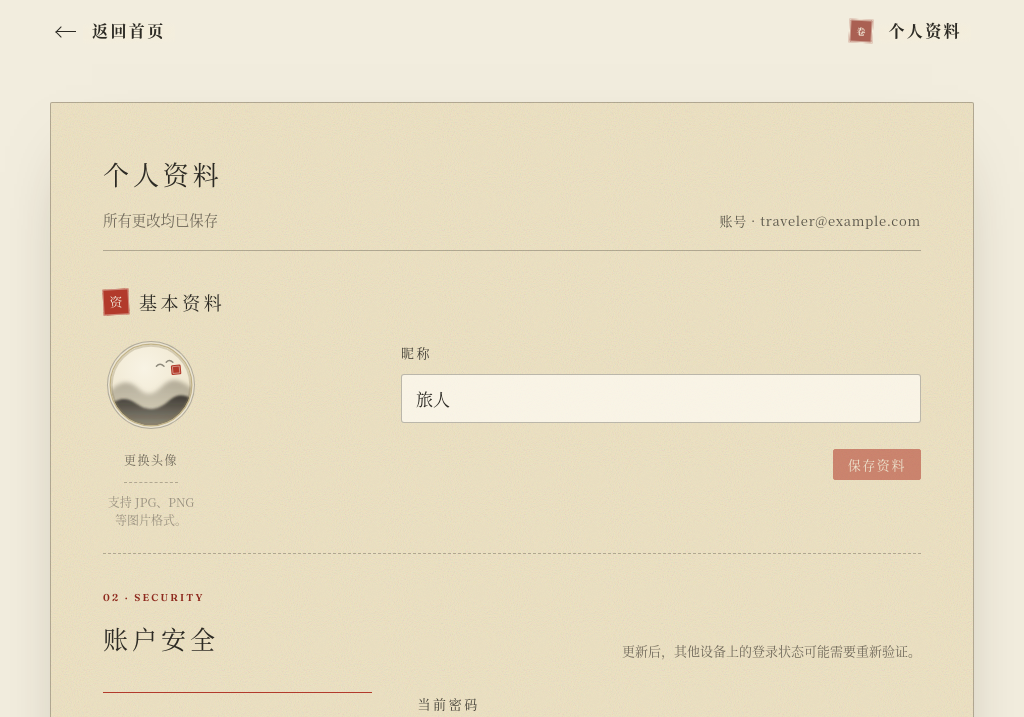
Scenario: public form feedback › keeps the profile form ready for an explicit retry after a save failure
Step 1. Replace the text in the field labelled "昵称" with "新的旅人" → (661, 398), box x1=401 y1=374 x2=921 y2=423
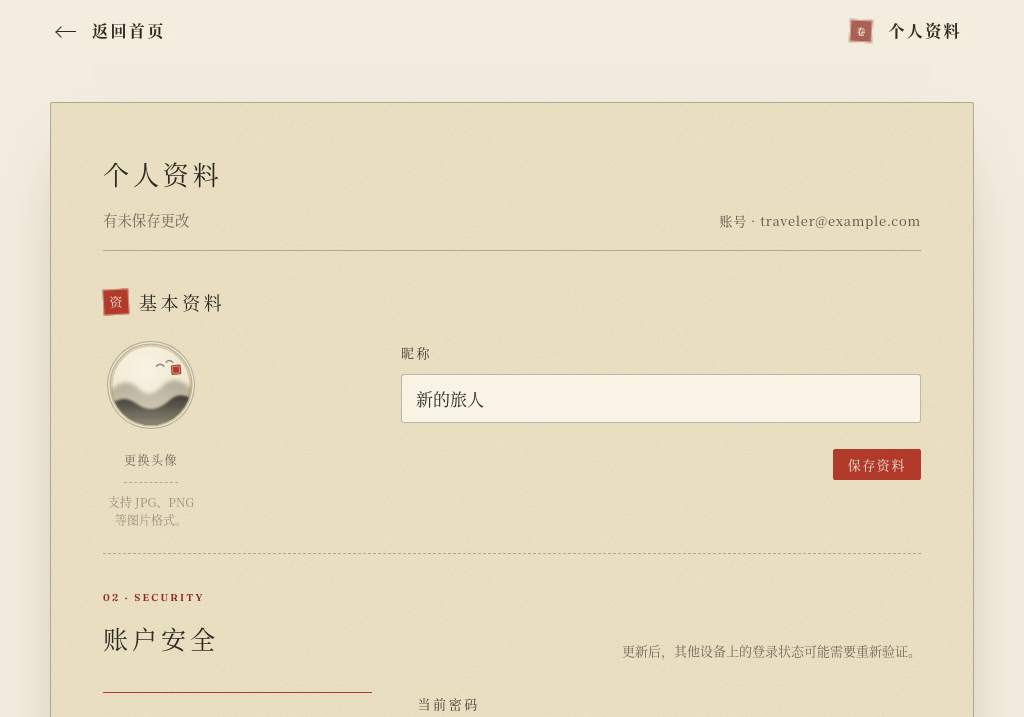
Step 2. Click the button "保存资料" → (877, 464), box x1=833 y1=449 x2=921 y2=480
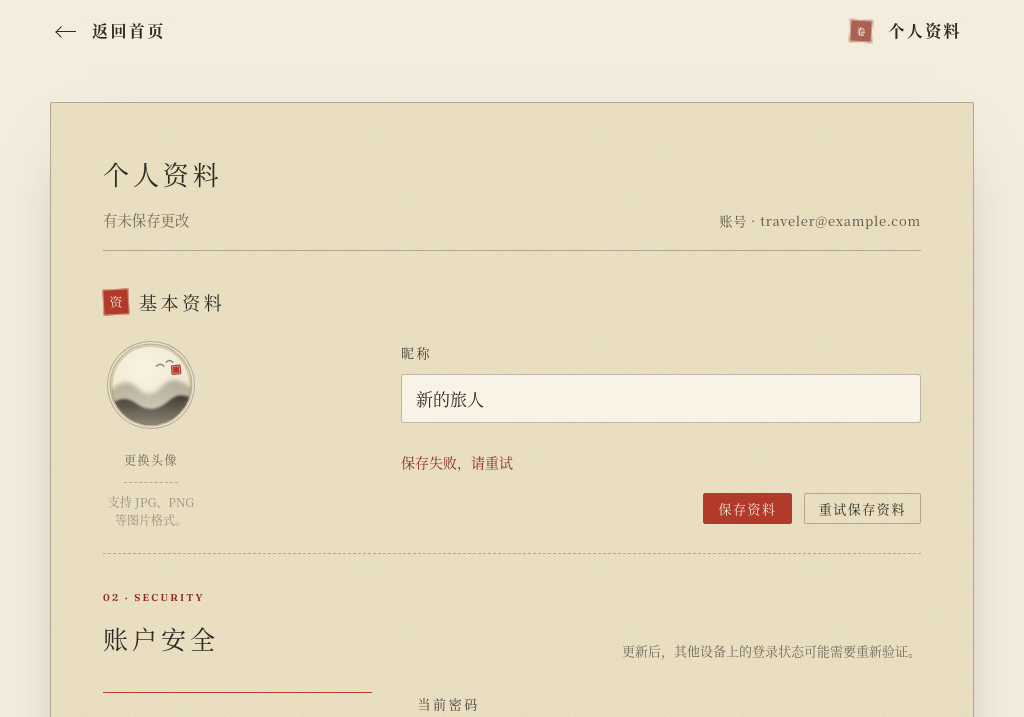
Expected: the message reads "保存失败，请重试", x1=401 y1=452 x2=513 y2=472
Expected: the button "重试保存资料" is enabled, x1=804 y1=493 x2=921 y2=524
